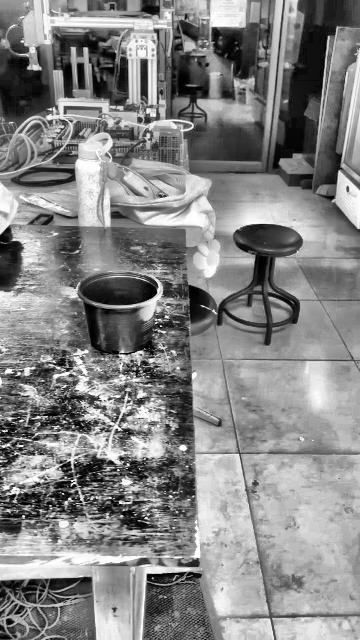pot: (77, 271, 161, 353)
